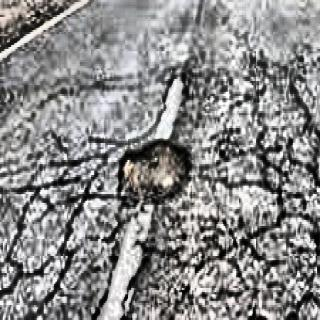alligator-crack: (1, 139, 144, 320), (232, 118, 319, 320)
pothole: (116, 139, 193, 208)
